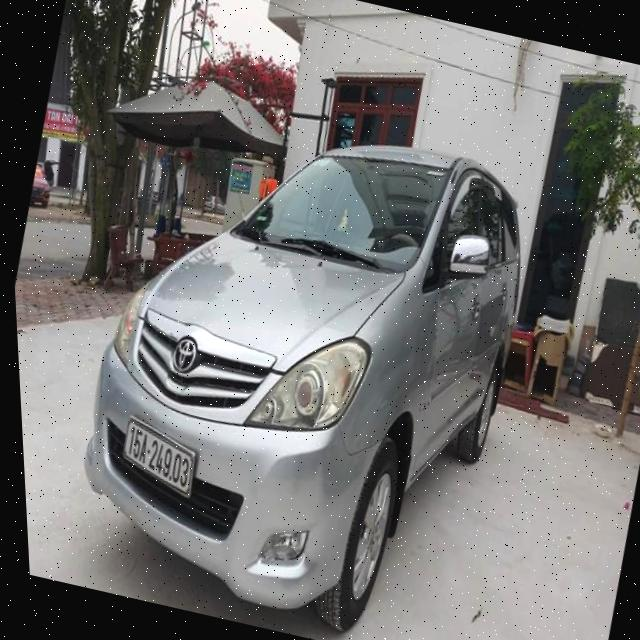car: (45, 75, 572, 640)
plate: (109, 414, 208, 501)
